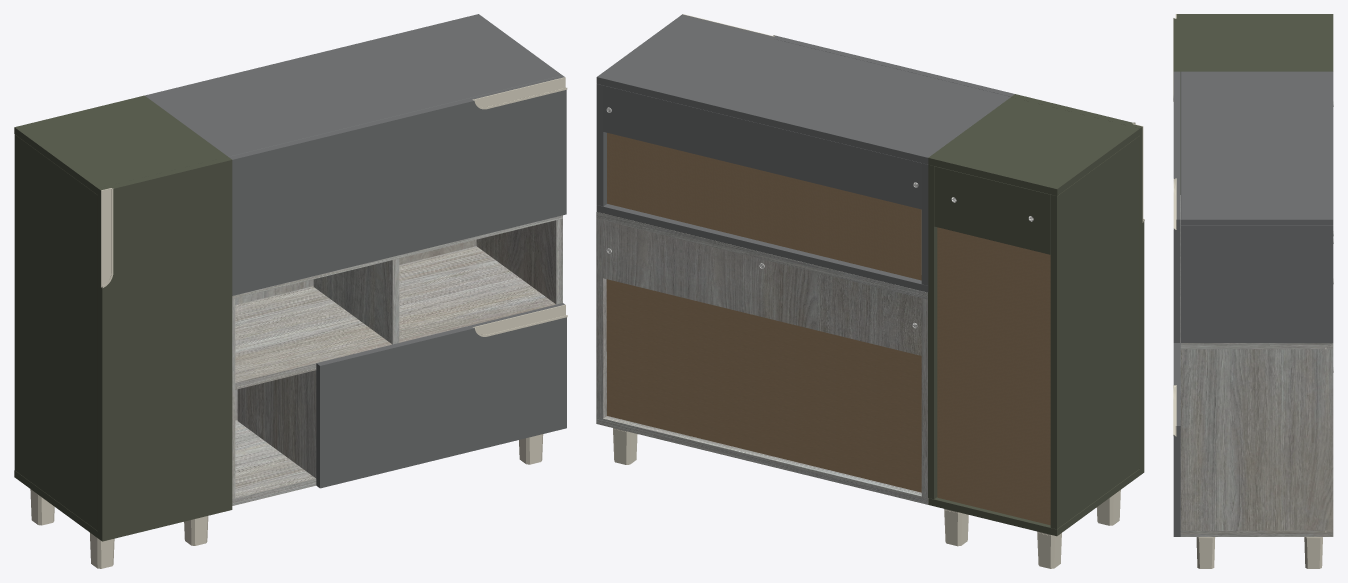
3 renders of one model, left to right at view 1: azimuth 30°, elevation 25°; view 2: azimuth 150°, elevation 25°; view 3: azimuth 270°, elevation 25°, orthographic. The views are drawn at different scales.
Parts seen in each view (by area): view 1: group_0.044, Cube.003, group_0.301, group_0.004; view 2: Cube.003, group_0.044, group_0.008, group_0.090, group_0.301, group_0.136, group_0.004; view 3: group_0.044, group_0.301, Cube.003, group_0.004.
Part boxes in pixels (x1,y1,x2,y2): group_0.044: [145, 14, 566, 488]; Cube.003: [14, 95, 232, 541]; group_0.301: [232, 215, 562, 505]; group_0.004: [30, 77, 567, 568]; Cube.003: [928, 94, 1144, 536]; group_0.044: [596, 14, 1014, 292]; group_0.008: [606, 279, 921, 492]; group_0.090: [937, 227, 1050, 525]; group_0.301: [596, 212, 928, 504]; group_0.136: [607, 133, 921, 280]; group_0.004: [613, 14, 1144, 568]; group_0.044: [1173, 71, 1333, 536]; group_0.301: [1180, 195, 1333, 536]; Cube.003: [1173, 14, 1333, 194]; group_0.004: [1173, 14, 1322, 568].
Size of the model in its own units: 1.25 by 1 by 0.4116.
7 materials, 2 textured.
